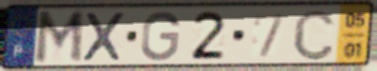2: (190, 10, 229, 62)
7: (251, 12, 285, 58)
C: (291, 7, 337, 62)
G: (139, 9, 183, 63)
M: (32, 8, 87, 66)
X: (80, 10, 127, 63)
